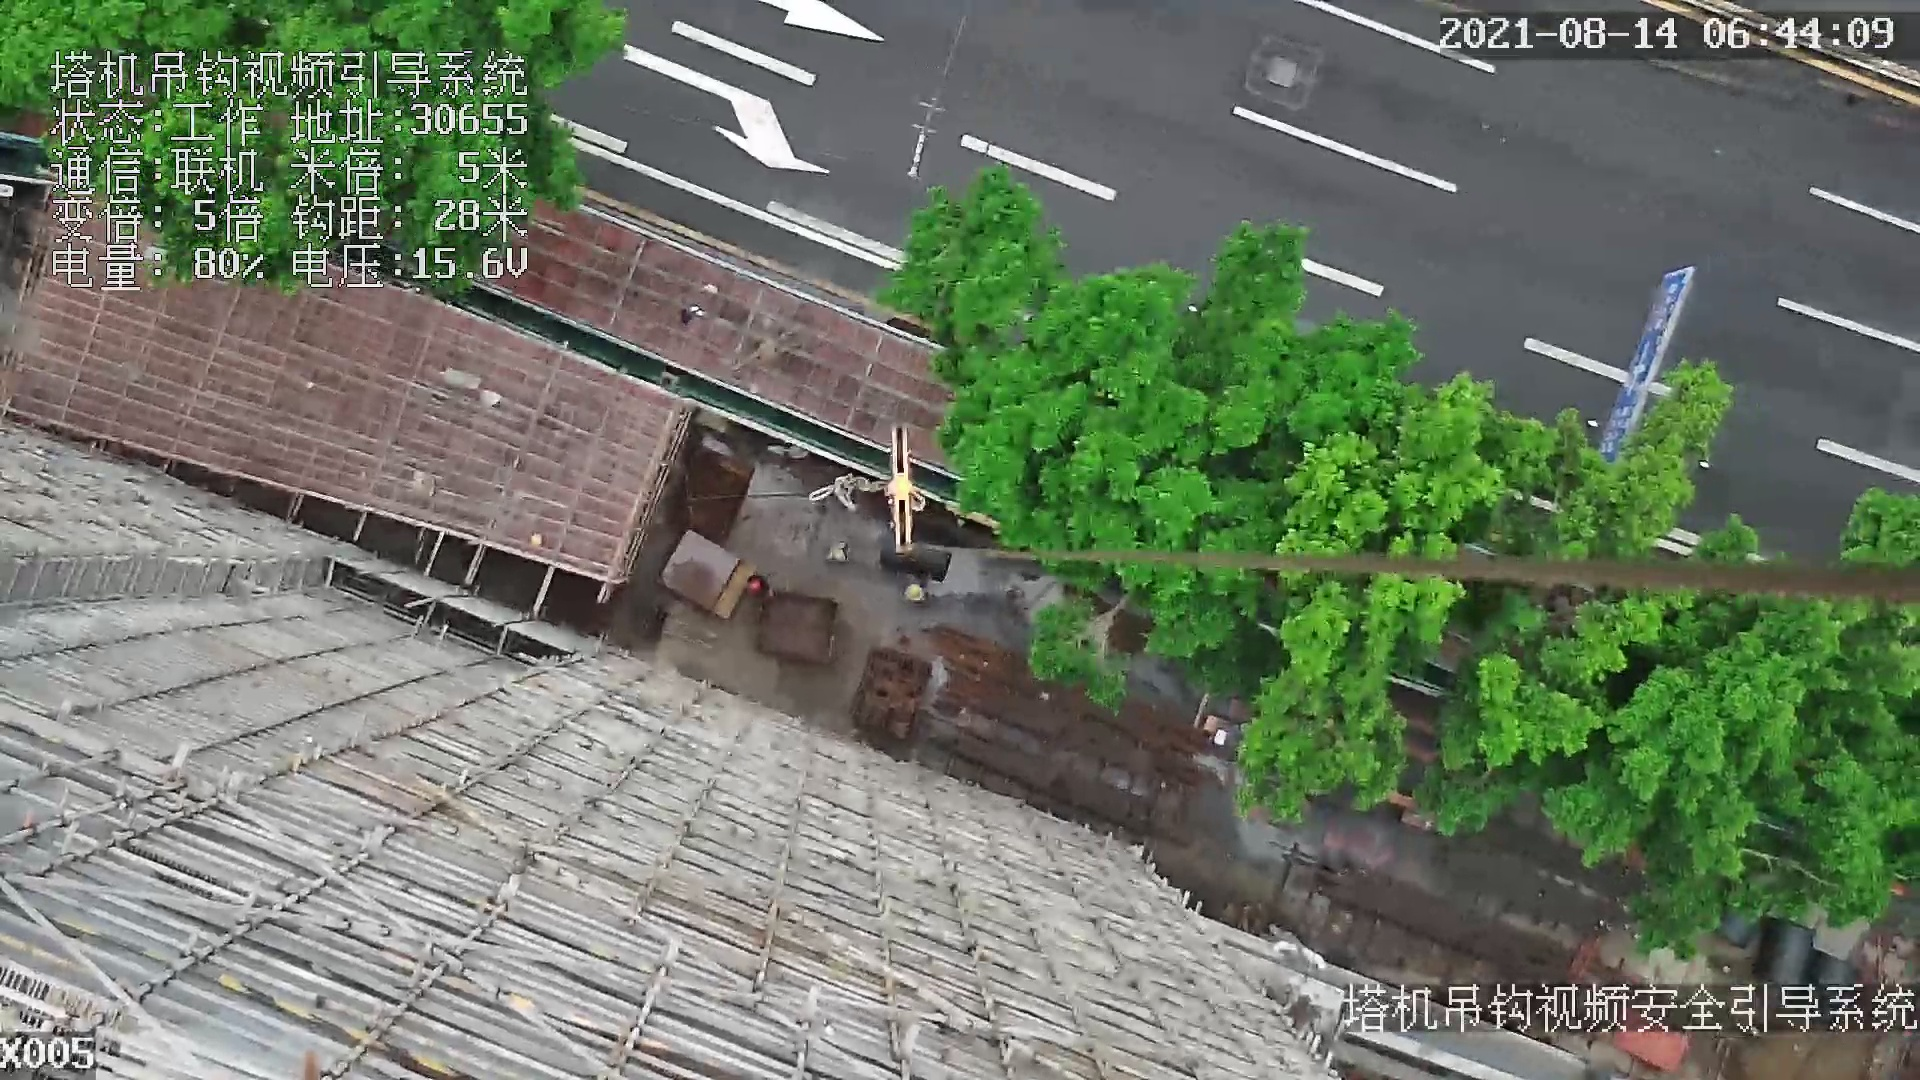person: (740, 571, 772, 601), (896, 578, 929, 604), (826, 539, 846, 564)
